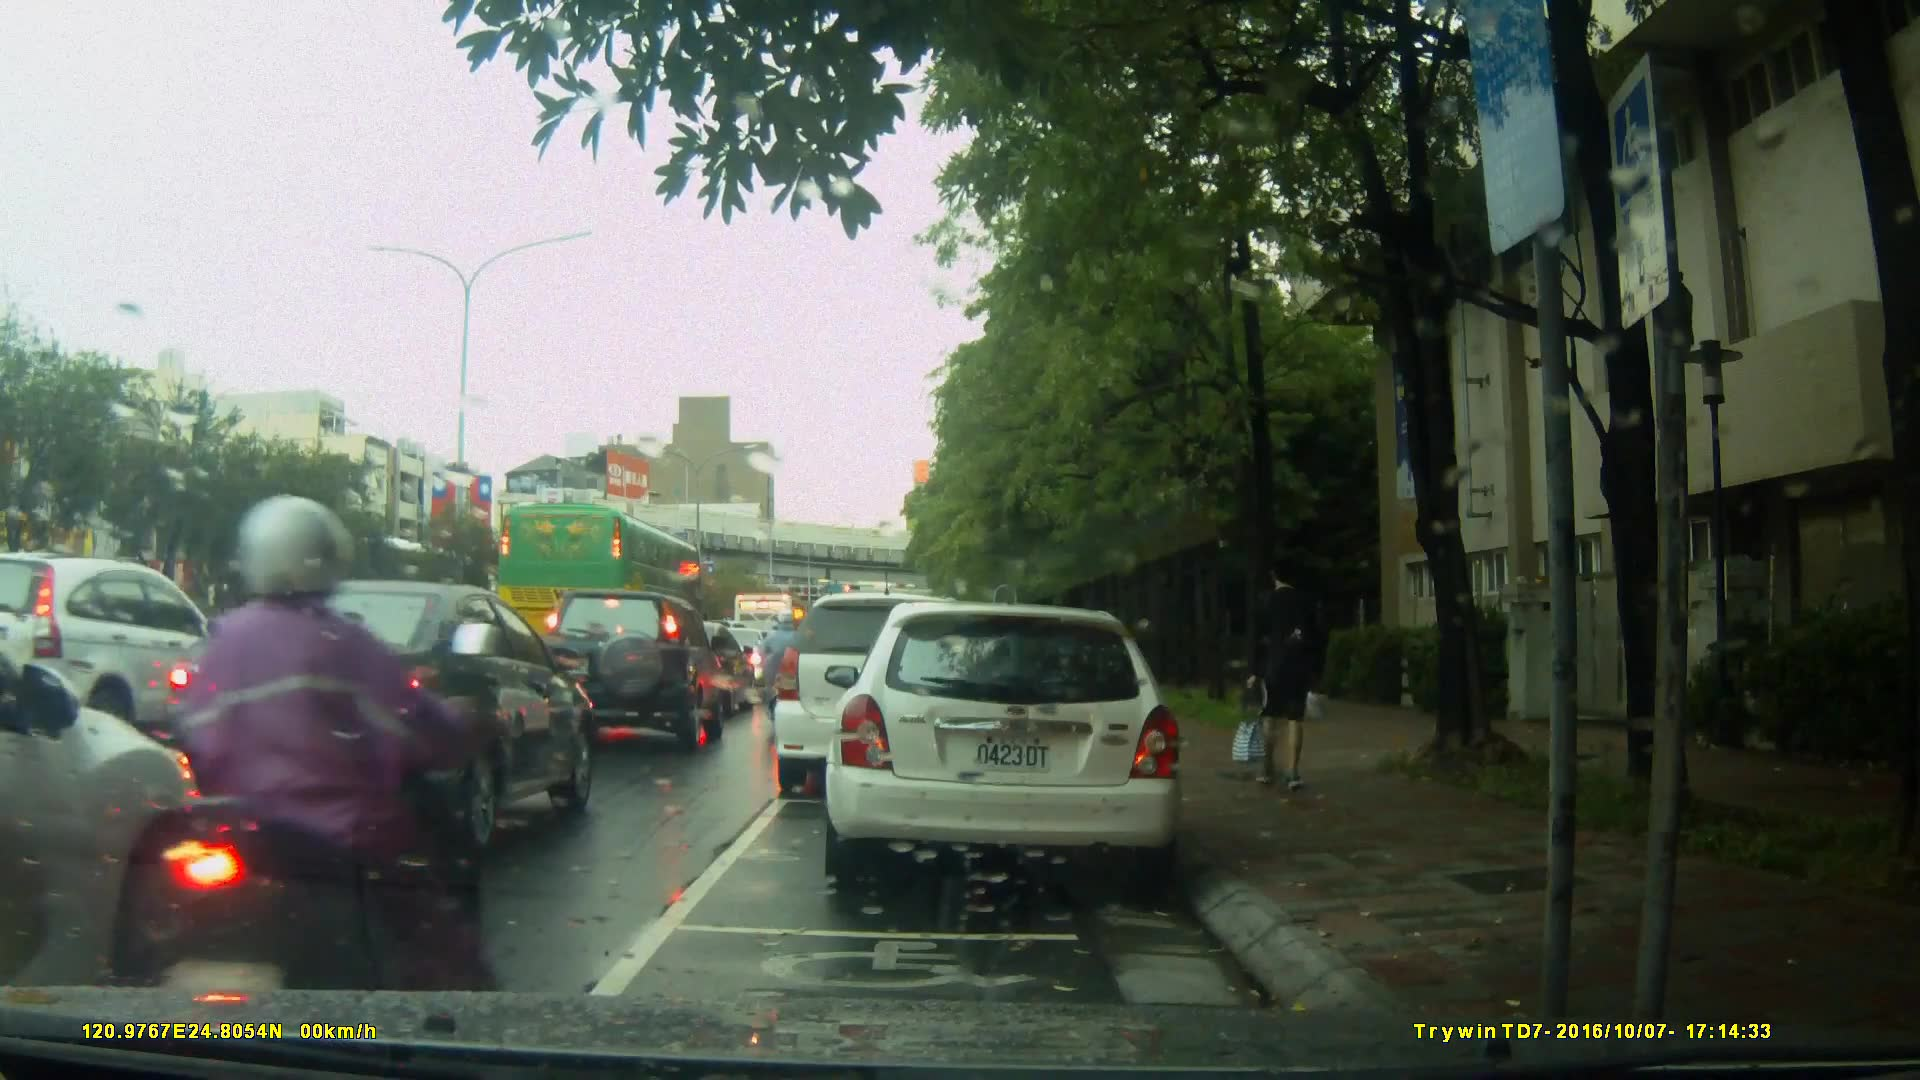pedestrian: (1230, 554, 1331, 798)
rider: (141, 499, 494, 1030), (761, 610, 806, 726)
vehicle: (155, 576, 595, 866), (831, 592, 1196, 897), (770, 592, 999, 799), (8, 555, 246, 749), (533, 585, 730, 750), (493, 500, 707, 652)
